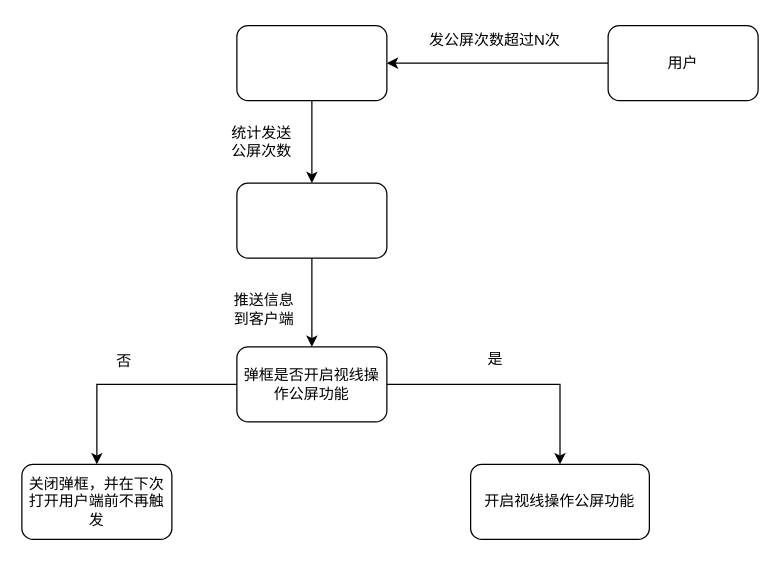
This 780x561 diagram has some shape labels left out. Here are the shapes that lost their labels. From the top down, the centre of each, then its label:
point (311, 62): 用户端
point (311, 220): 服务器
